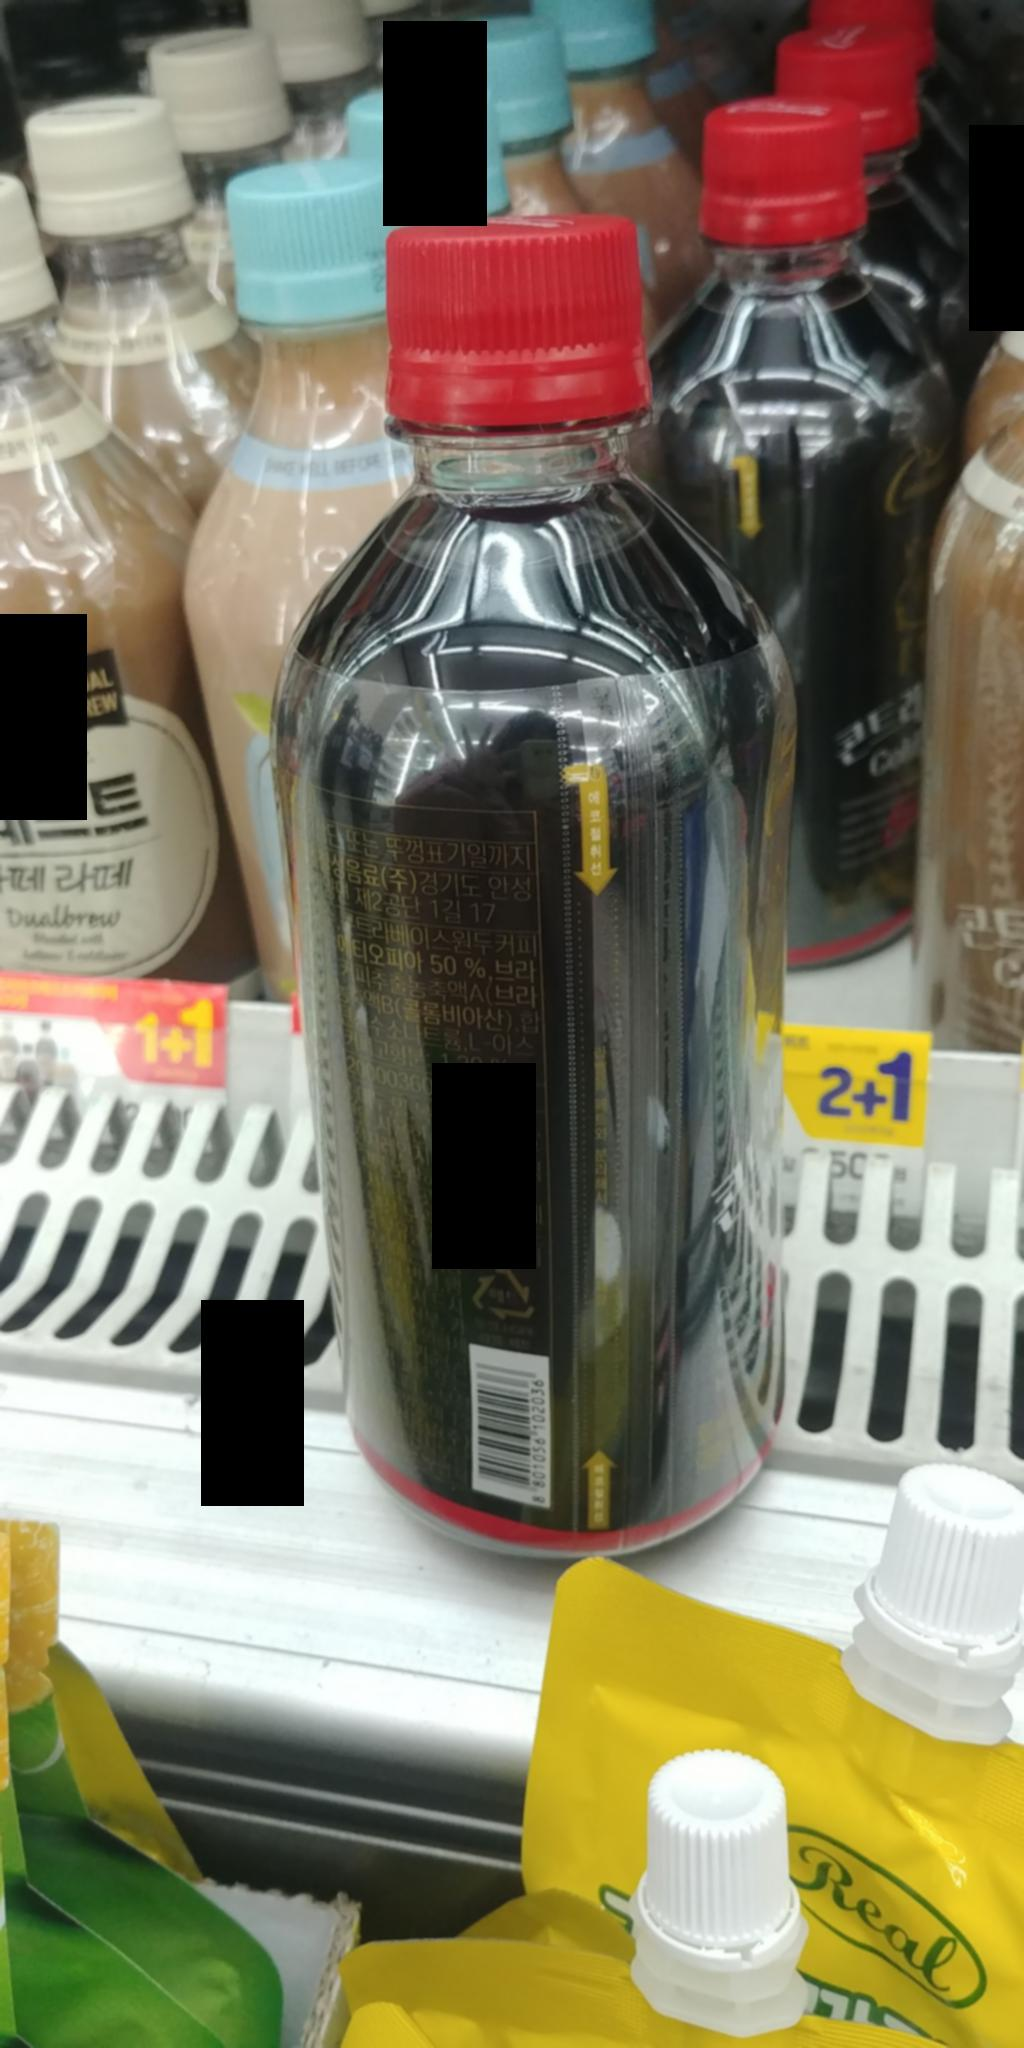contrabass_sweetblack: (252, 212, 832, 1570)
